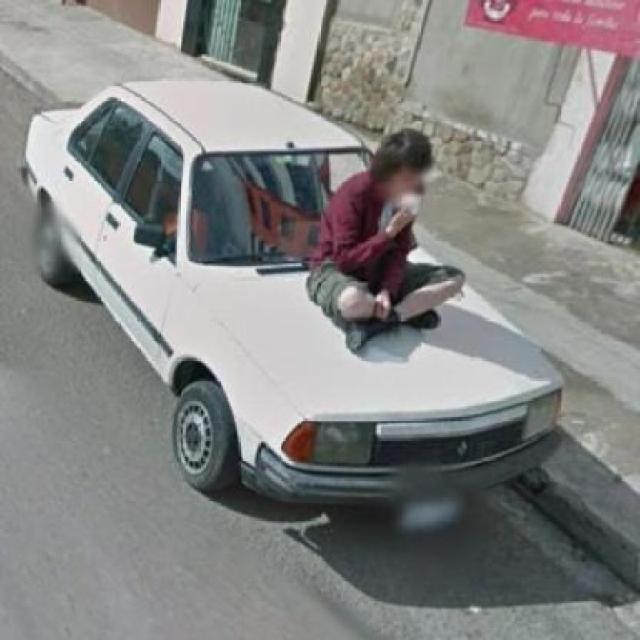car: (11, 48, 574, 497)
